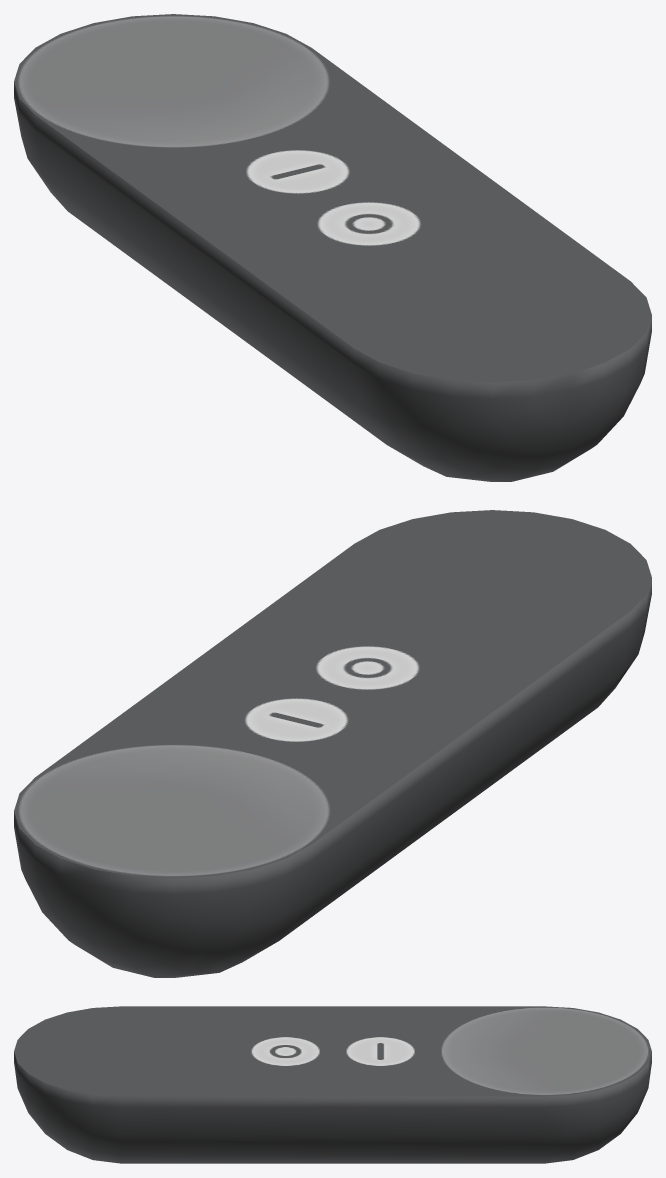
3 renders of one model, top to bottom at view 1: azimuth 30°, elevation 25°; view 2: azimuth 150°, elevation 25°; view 3: azimuth 270°, elevation 25°, orthographic. The views are drawn at different scales.
Parts seen in each view (by area): view 1: controller; view 2: controller; view 3: controller.
Part boxes in pixels (bbox=[...]): controller: bbox=[14, 14, 651, 481]; controller: bbox=[14, 510, 651, 977]; controller: bbox=[14, 1006, 651, 1163].
Bounding box in the file's own units: 0.0345 × 0.018 × 0.1036.
Materials: 1 (1 with a texture image).
